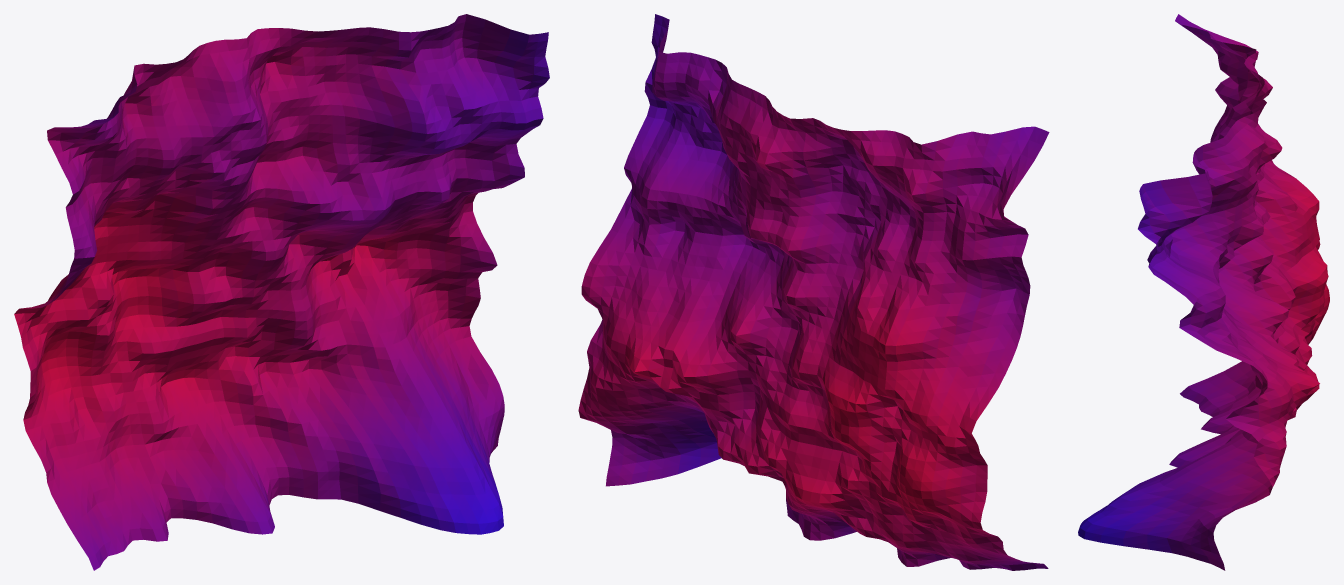
File: colored.obj
3 renders of one model, left to right at view 1: azimuth 30°, elevation 25°; view 2: azimuth 150°, elevation 25°; view 3: azimuth 270°, elevation 25°, orthographic. The views are drawn at different scales.
Bounding box in the file's own units: 50 × 50 × 30.05.
Materials: 1 (1 with a texture image).
